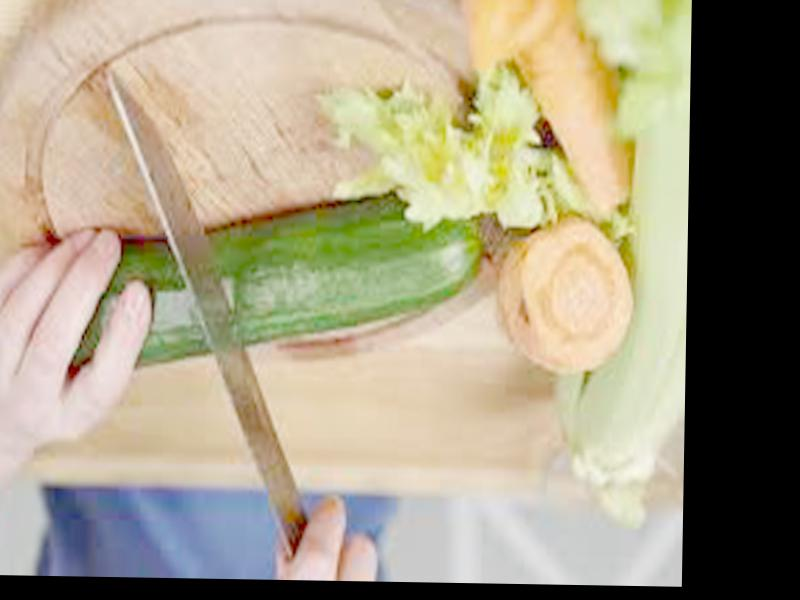Cucumber: (70, 197, 485, 375)
